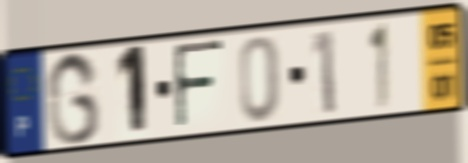0: (236, 32, 283, 126)
1: (113, 42, 150, 140), (366, 17, 394, 113), (310, 26, 338, 117)
F: (171, 37, 227, 133)
G: (45, 49, 102, 149)
